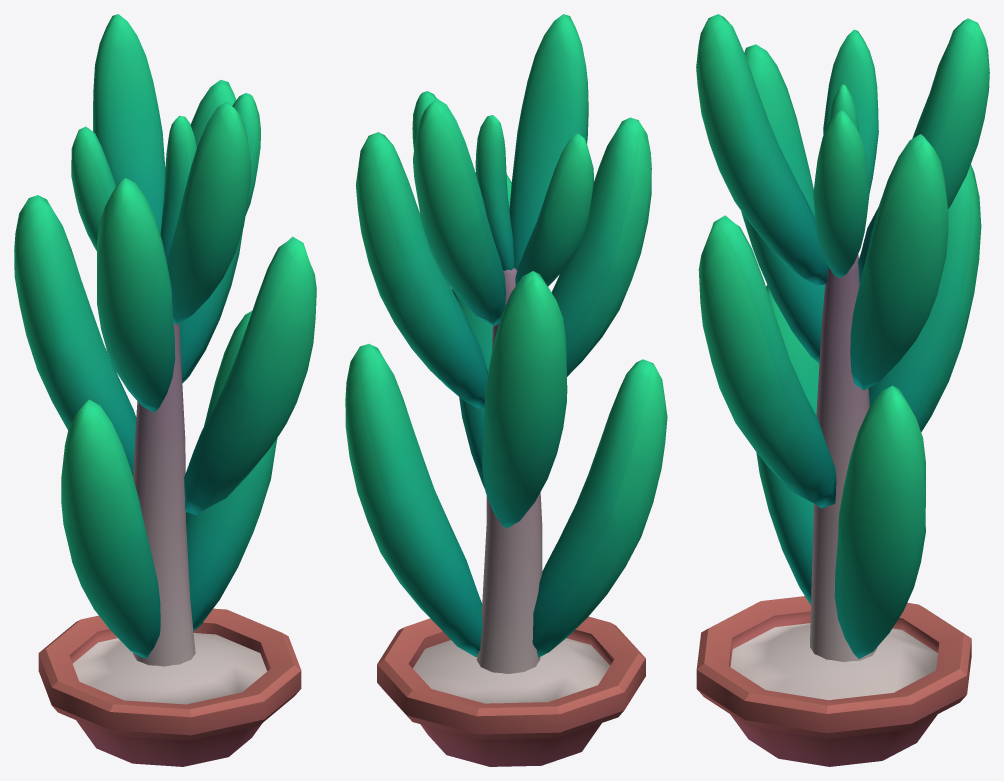
The model's file is Plant_04.fbx.
3 renders of one model, left to right at view 1: azimuth 30°, elevation 25°; view 2: azimuth 150°, elevation 25°; view 3: azimuth 270°, elevation 25°, orthographic. The views are drawn at different scales.
Parts seen in each view (by area): view 1: Plant_04; view 2: Plant_04; view 3: Plant_04.
Boxes of the visible parts, bbox=[...] form: Plant_04: bbox=[14, 14, 316, 766]; Plant_04: bbox=[345, 14, 667, 766]; Plant_04: bbox=[696, 14, 989, 766].
Size of the model in its own units: 1.2 by 2.96 by 1.1.
